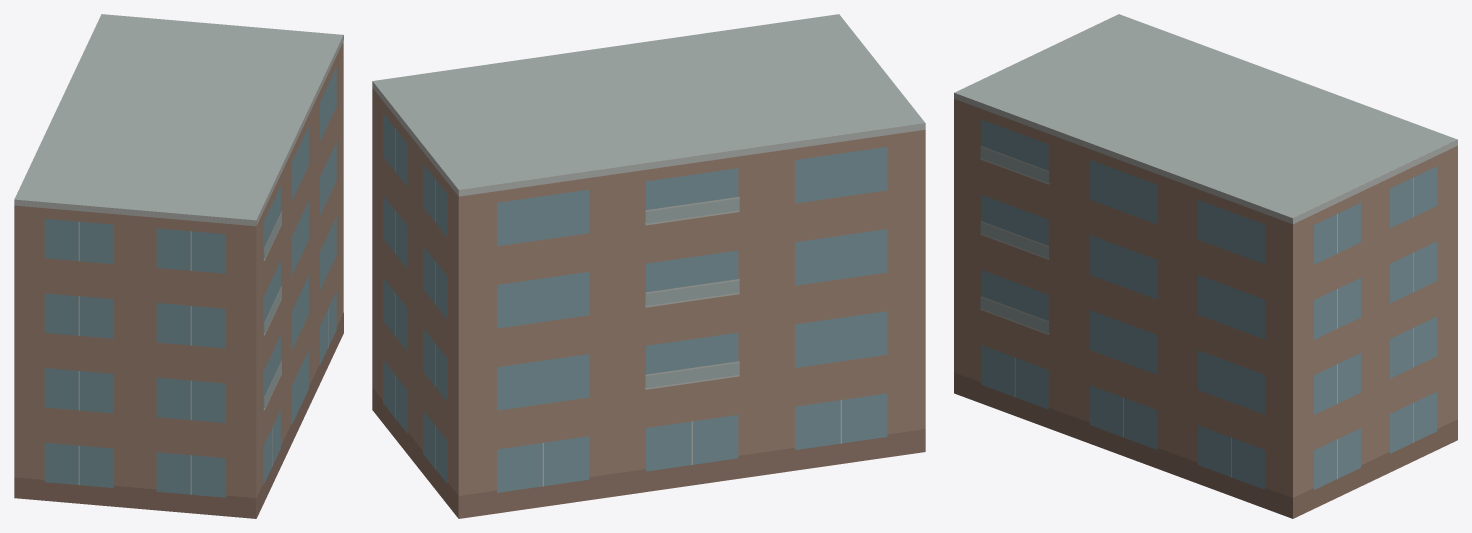
The model's file is survey-upis-32826934.glb.
3 renders of one model, left to right at view 1: azimuth 30°, elevation 25°; view 2: azimuth 150°, elevation 25°; view 3: azimuth 270°, elevation 25°, orthographic. The views are drawn at different scales.
Visible parts, largest first — view 1: survey-upis-32826934.tmp; view 2: survey-upis-32826934.tmp; view 3: survey-upis-32826934.tmp.
Part boxes in pixels (x1=…): survey-upis-32826934.tmp: x1=14, y1=14, x2=343, y2=518; survey-upis-32826934.tmp: x1=372, y1=14, x2=925, y2=518; survey-upis-32826934.tmp: x1=954, y1=14, x2=1457, y2=518.
Size of the model in its own units: 17.79 by 12.2 by 18.54.
